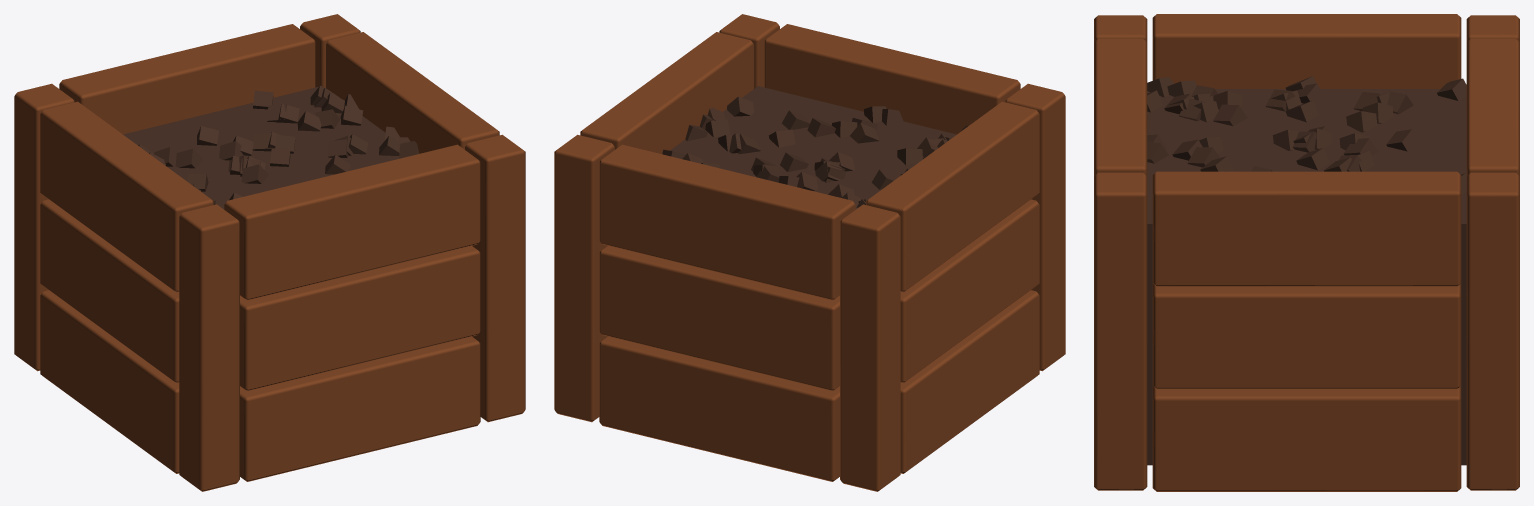
The model's file is Composter.glb.
3 renders of one model, left to right at view 1: azimuth 30°, elevation 25°; view 2: azimuth 150°, elevation 25°; view 3: azimuth 270°, elevation 25°, orthographic. The views are drawn at different scales.
Parts seen in each view (by area): view 1: Composter; view 2: Composter; view 3: Composter.
Boxes of the visible parts, bbox=[...] form: Composter: bbox=[14, 14, 525, 491]; Composter: bbox=[554, 14, 1065, 491]; Composter: bbox=[1094, 14, 1519, 491].
Size of the model in its own units: 0.8 by 0.625 by 0.8.
